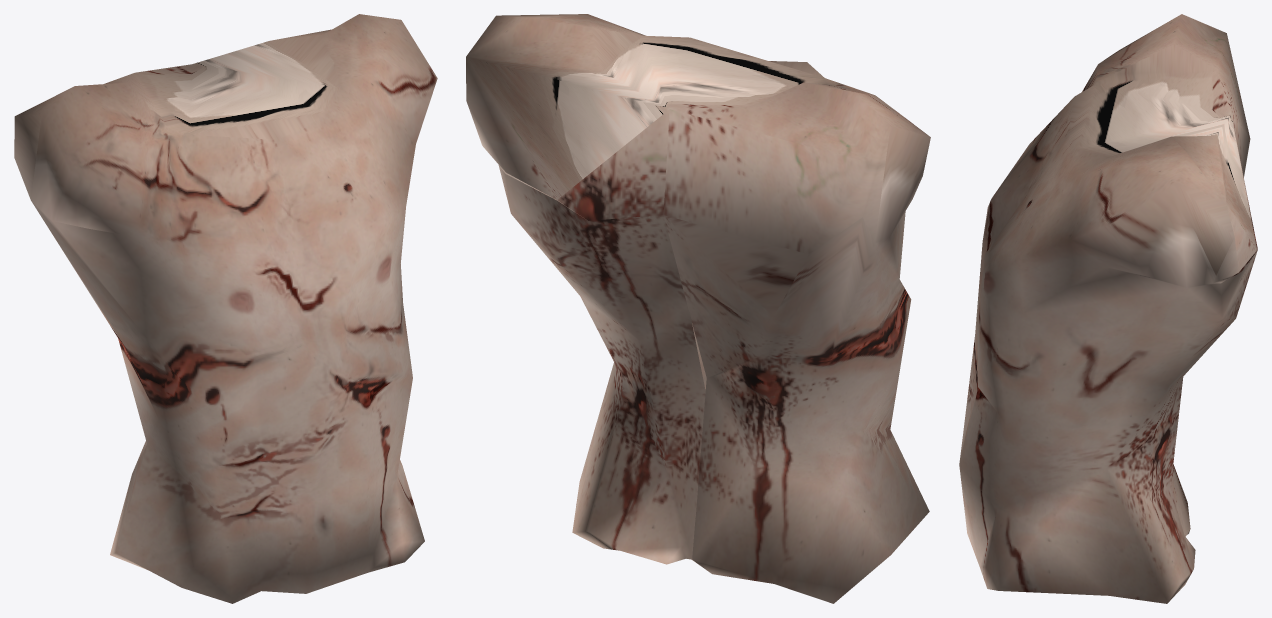
File: gib_torso.gltf
3 renders of one model, left to right at view 1: azimuth 30°, elevation 25°; view 2: azimuth 150°, elevation 25°; view 3: azimuth 270°, elevation 25°, orthographic. The views are drawn at different scales.
Parts seen in each view (by area): view 1: Object_6.001; view 2: Object_6.001; view 3: Object_6.001.
Part boxes in pixels (<box>): Object_6.001: <box>14,14,437,603</box>; Object_6.001: <box>466,14,930,603</box>; Object_6.001: <box>959,14,1257,603</box>.
Bounding box in the file's own units: 0.4473 × 0.5475 × 0.3153.
Materials: 1 (1 with a texture image).
